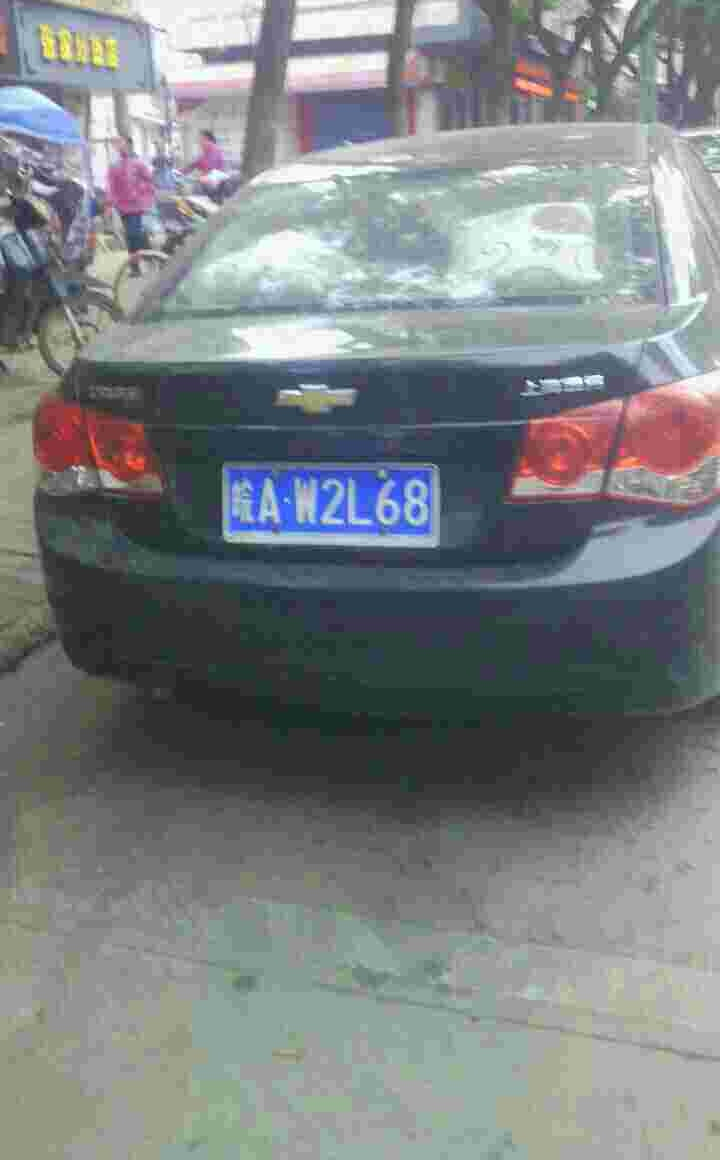license_plate: (229, 473, 447, 539)
